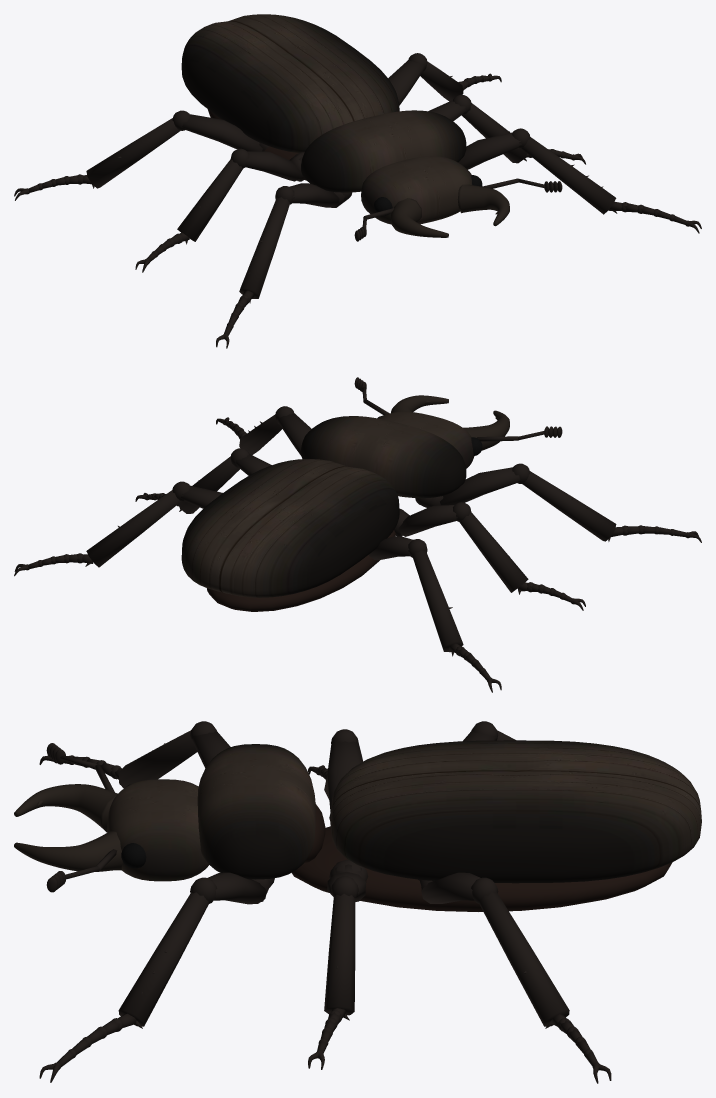
The model's file is bug_kokuwa.glb.
The picture shows the model from 3 angles, top to bottom: view 1: azimuth 30°, elevation 25°; view 2: azimuth 150°, elevation 25°; view 3: azimuth 270°, elevation 25°; orthographic projection. The views are drawn at different scales.
Parts seen in each view (by area): view 1: shell, pronotum, head_shell, leg_2_R_mesh, leg_0_L_mesh, leg_1_R_mesh, leg_0_R_mesh, leg_2_L_mesh, leg_1_L_mesh, jaw_L_mesh, jaw_R_mesh; view 2: shell, pronotum, leg_0_R_mesh, leg_1_R_mesh, leg_2_L_mesh, leg_2_R_mesh, under, leg_0_L_mesh, leg_1_L_mesh, head_shell, jaw_R_mesh, jaw_L_mesh (+1 smaller); view 3: shell, pronotum, under, head_shell, leg_0_L_mesh, leg_2_L_mesh, leg_1_L_mesh, leg_0_R_mesh, jaw_L_mesh, jaw_R_mesh, leg_1_R_mesh, ant_R_mesh (+2 smaller).
Boxes of the visible parts, x1,y1,x2,y2 form: shell: [181, 14, 399, 152]; pronotum: [301, 110, 466, 192]; head_shell: [361, 156, 472, 224]; leg_2_R_mesh: [14, 110, 269, 200]; leg_0_L_mesh: [458, 128, 701, 233]; leg_1_R_mesh: [135, 148, 304, 272]; leg_0_R_mesh: [216, 183, 352, 348]; leg_2_L_mesh: [388, 53, 501, 105]; leg_1_L_mesh: [428, 94, 585, 164]; jaw_L_mesh: [457, 184, 509, 226]; jaw_R_mesh: [390, 198, 448, 237]; shell: [181, 459, 399, 597]; pronotum: [301, 416, 466, 498]; leg_0_R_mesh: [415, 463, 701, 542]; leg_1_R_mesh: [394, 502, 585, 610]; leg_2_L_mesh: [14, 481, 222, 576]; leg_2_R_mesh: [369, 536, 501, 692]; under: [207, 530, 395, 611]; leg_0_L_mesh: [216, 406, 311, 455]; leg_1_L_mesh: [135, 448, 271, 513]; head_shell: [378, 411, 474, 468]; jaw_R_mesh: [463, 410, 509, 450]; jaw_L_mesh: [391, 395, 448, 412]; shell: [330, 740, 701, 883]; pronotum: [197, 744, 315, 879]; under: [292, 804, 672, 911]; head_shell: [107, 779, 208, 881]; leg_0_L_mesh: [39, 872, 274, 1082]; leg_2_L_mesh: [418, 872, 611, 1083]; leg_1_L_mesh: [308, 859, 368, 1069]; leg_0_R_mesh: [39, 721, 230, 788]; jaw_L_mesh: [14, 831, 122, 871]; jaw_R_mesh: [14, 784, 117, 832]; leg_1_R_mesh: [308, 729, 363, 820]; ant_R_mesh: [46, 743, 114, 792].
Bounding box in the file's own units: 1.65 × 0.3678 × 1.48.
6 materials, 2 textured.
